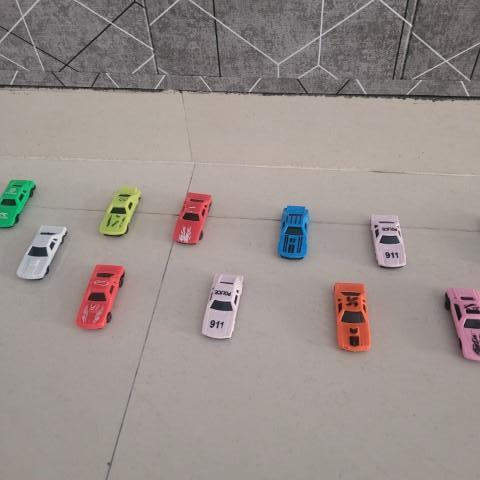car: (76, 261, 126, 333), (330, 280, 374, 353), (18, 222, 67, 285), (201, 273, 247, 339), (99, 182, 141, 238), (171, 191, 215, 244), (368, 214, 409, 269), (277, 204, 314, 262)
